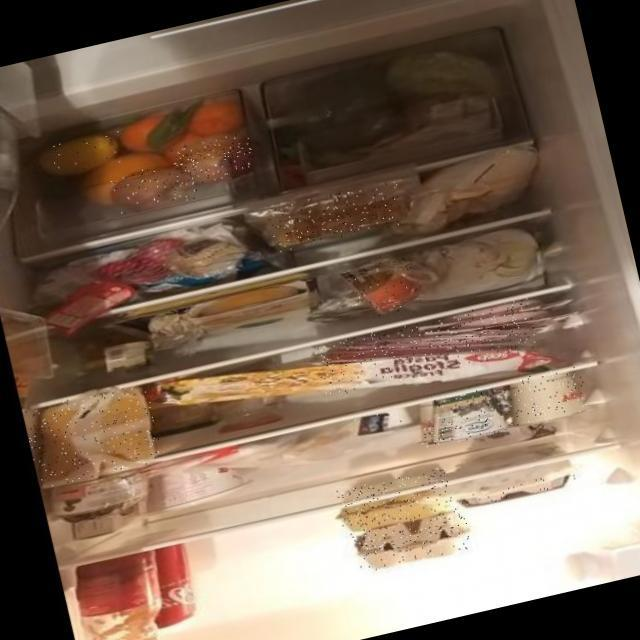Carne cerdo: (312, 296, 539, 397)
Huevos: (333, 465, 455, 537), (349, 510, 472, 573), (459, 469, 577, 507)
Limón: (33, 128, 125, 180)
Manzana: (109, 158, 198, 217), (169, 129, 256, 187)
Queso: (20, 381, 164, 489), (265, 178, 405, 252), (344, 246, 422, 321)
Yogur: (411, 383, 509, 449), (498, 363, 588, 427), (353, 397, 438, 439)
